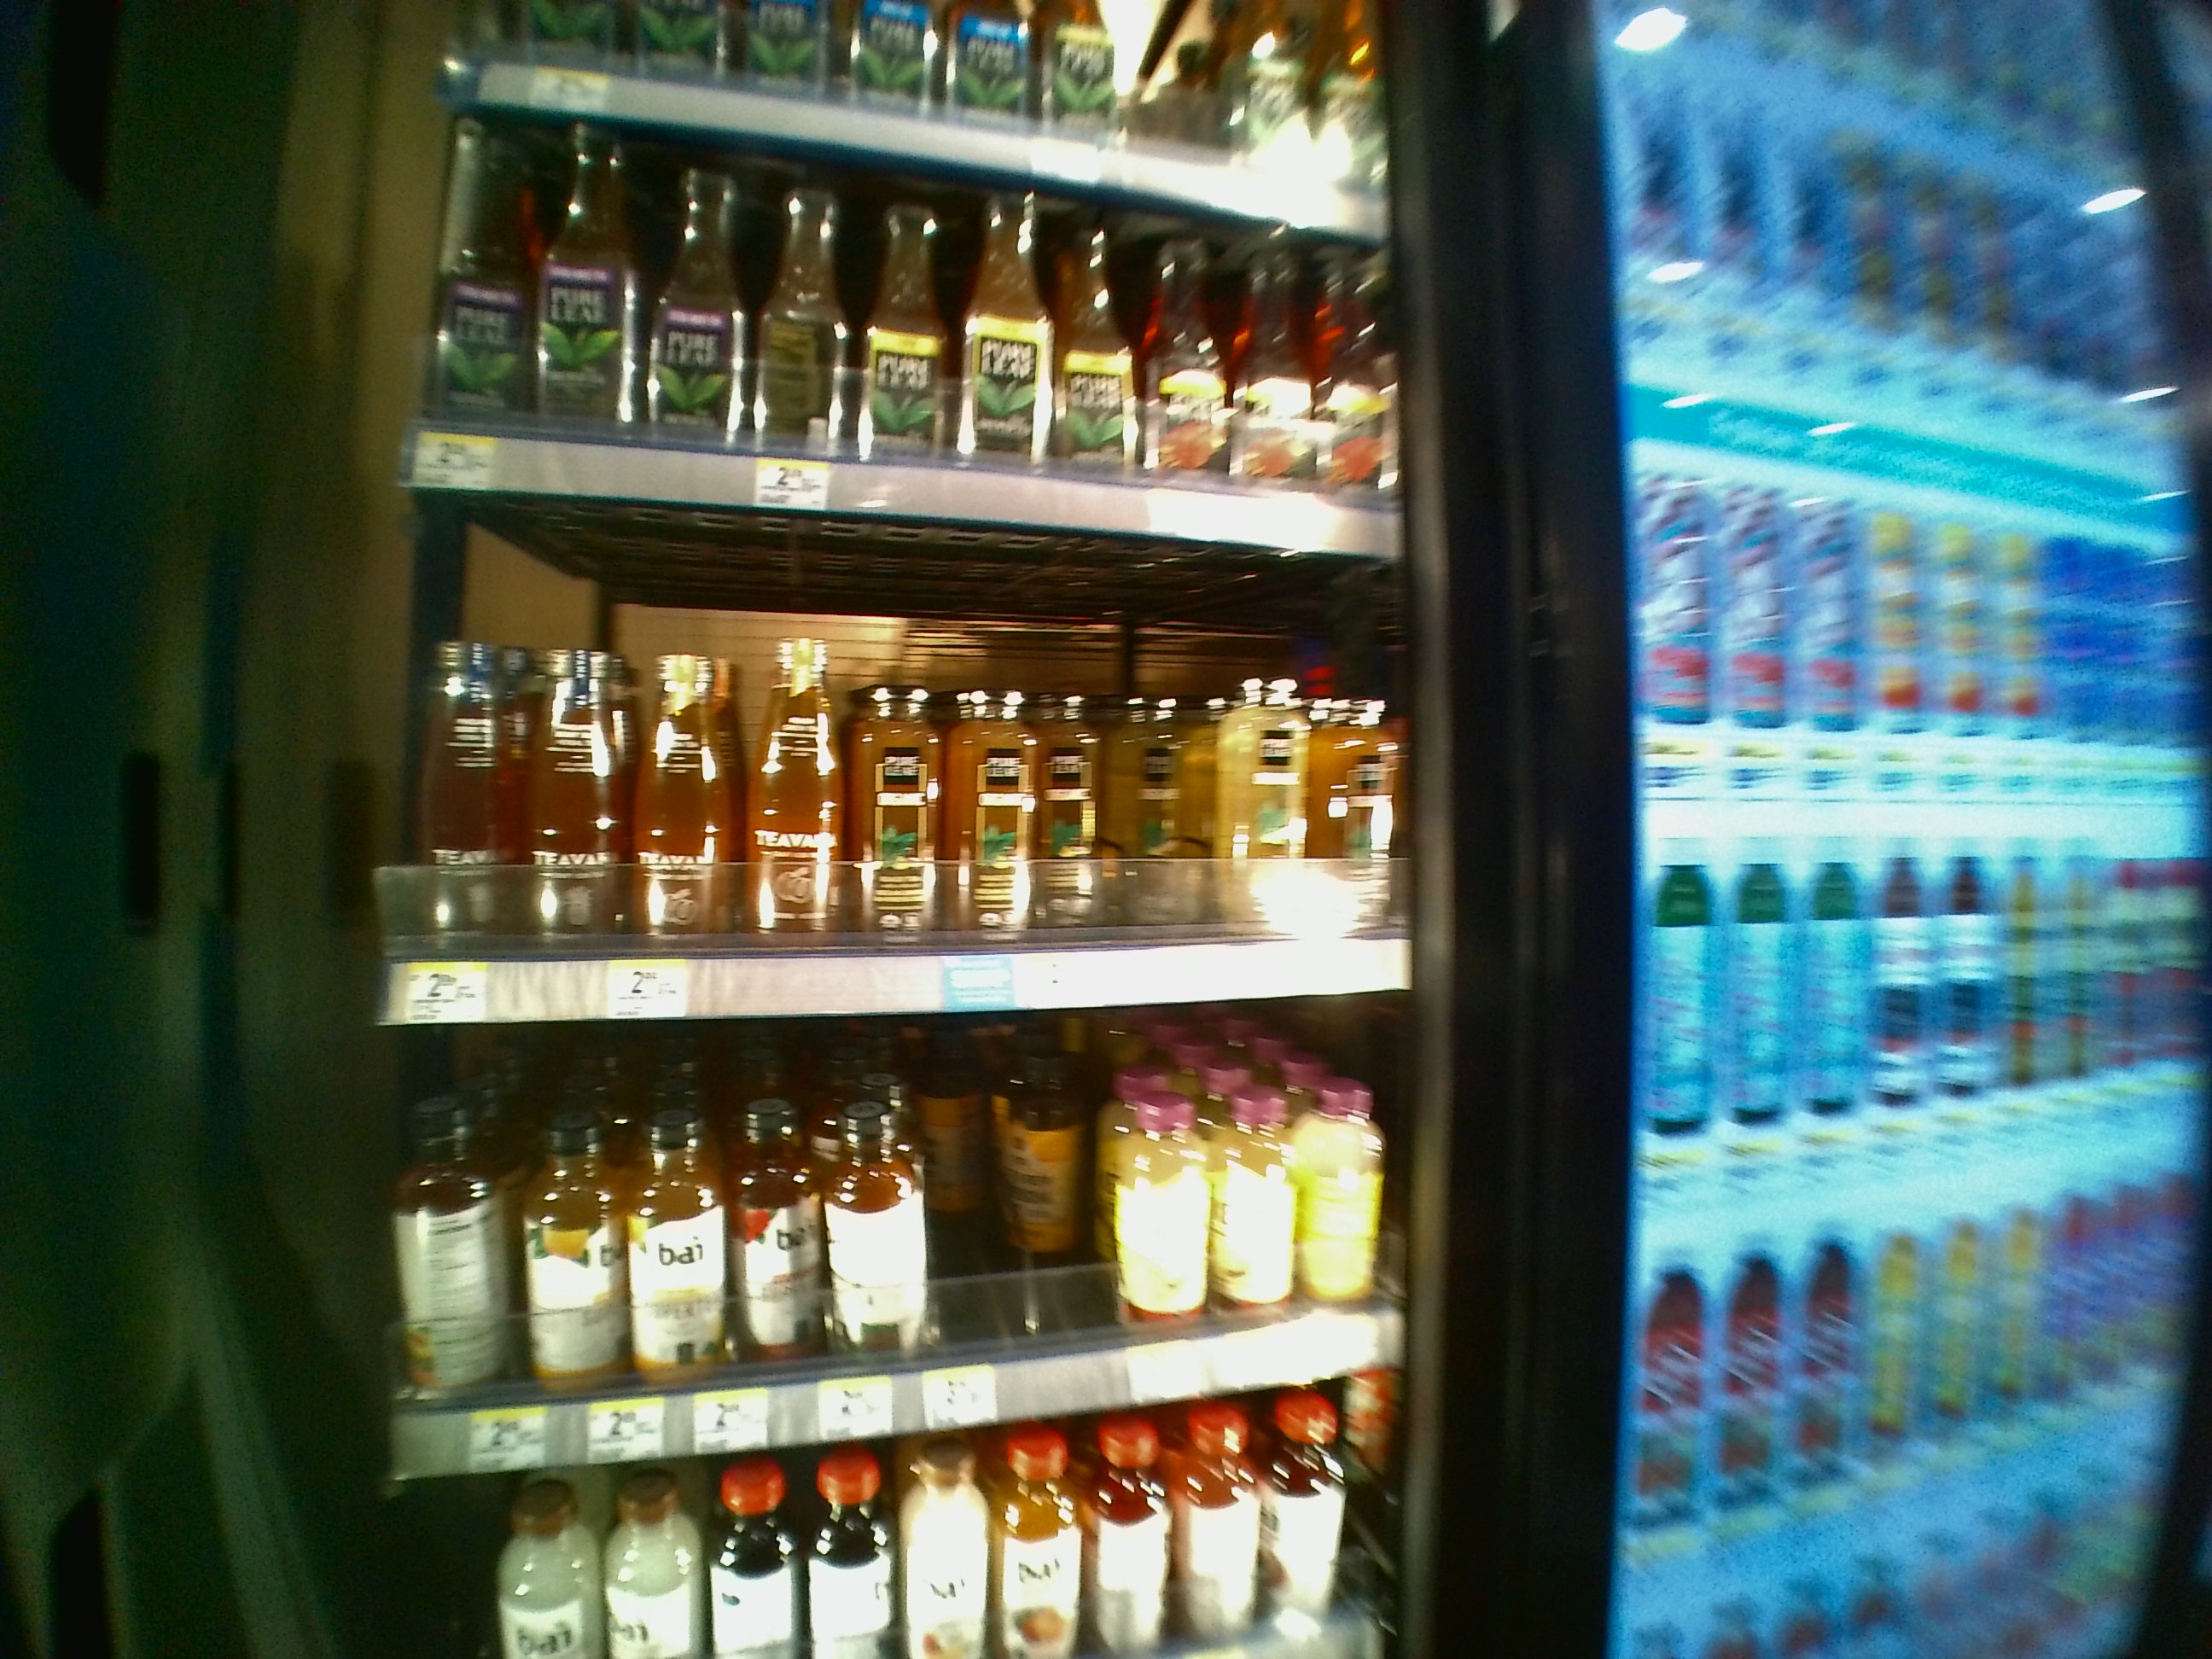shelf: (374, 521, 1413, 1019), (369, 1037, 1439, 1486), (392, 89, 1407, 495)
